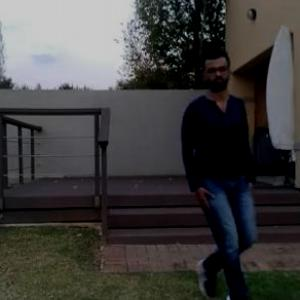follow: (166, 39, 261, 299)
